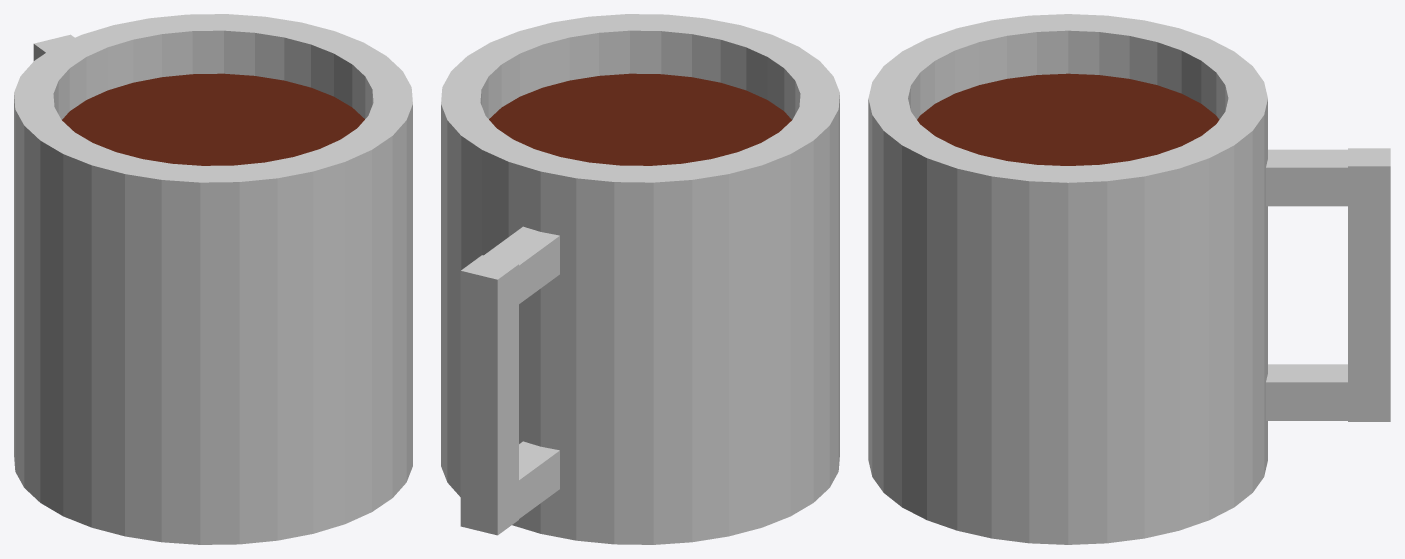
File: coffee_v2.glb
3 renders of one model, left to right at view 1: azimuth 30°, elevation 25°; view 2: azimuth 150°, elevation 25°; view 3: azimuth 270°, elevation 25°, orthographic.
Visible parts, largest first — view 1: Cylinder, Cylinder.001; view 2: Cylinder, Cylinder.001, Cube, Cube.001, Cube.002; view 3: Cylinder, Cylinder.001, Cube, Cube.002, Cube.001.
Boxes of the visible parts, x1,y1,x2,y2 form: Cylinder: (14, 14, 412, 544); Cylinder.001: (62, 73, 364, 165); Cylinder: (441, 14, 839, 544); Cylinder.001: (489, 73, 791, 165); Cube: (460, 255, 518, 535); Cube.001: (484, 226, 559, 311); Cube.002: (510, 441, 559, 524); Cylinder: (868, 14, 1267, 544); Cylinder.001: (917, 73, 1218, 165); Cube: (1348, 148, 1390, 421); Cube.002: (1266, 364, 1367, 420); Cube.001: (1266, 149, 1367, 206).
Bounding box in the file's own units: 2 × 2 × 2.61.
